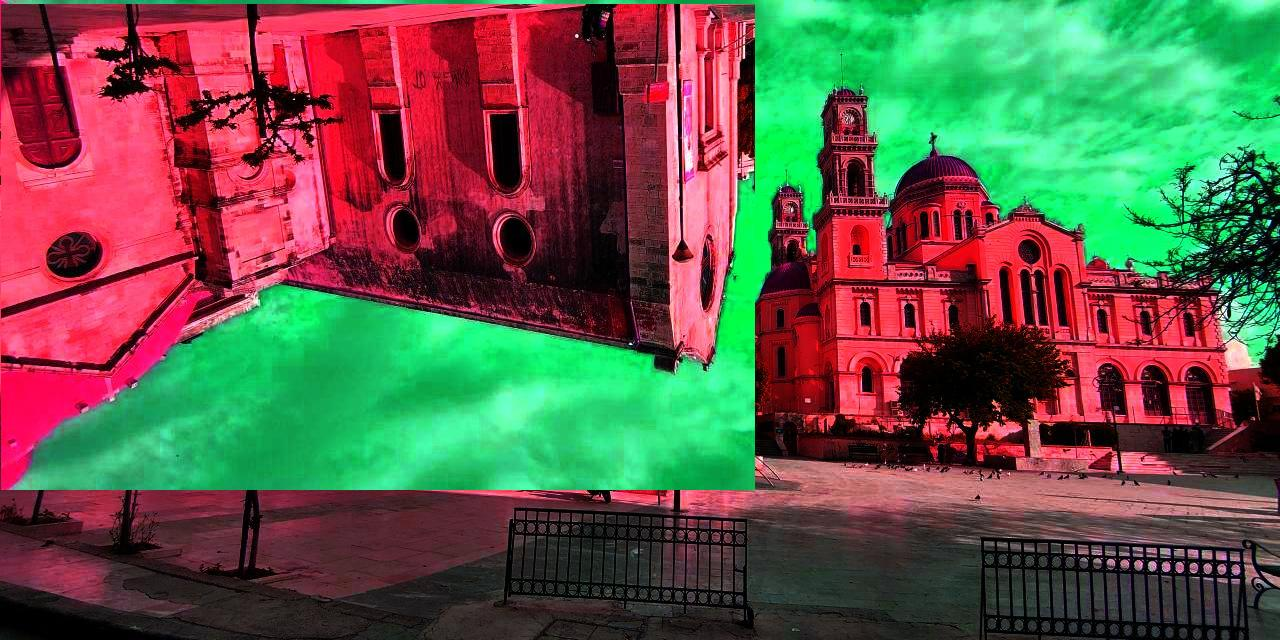Agia Aikaterini: (2, 5, 756, 491)
